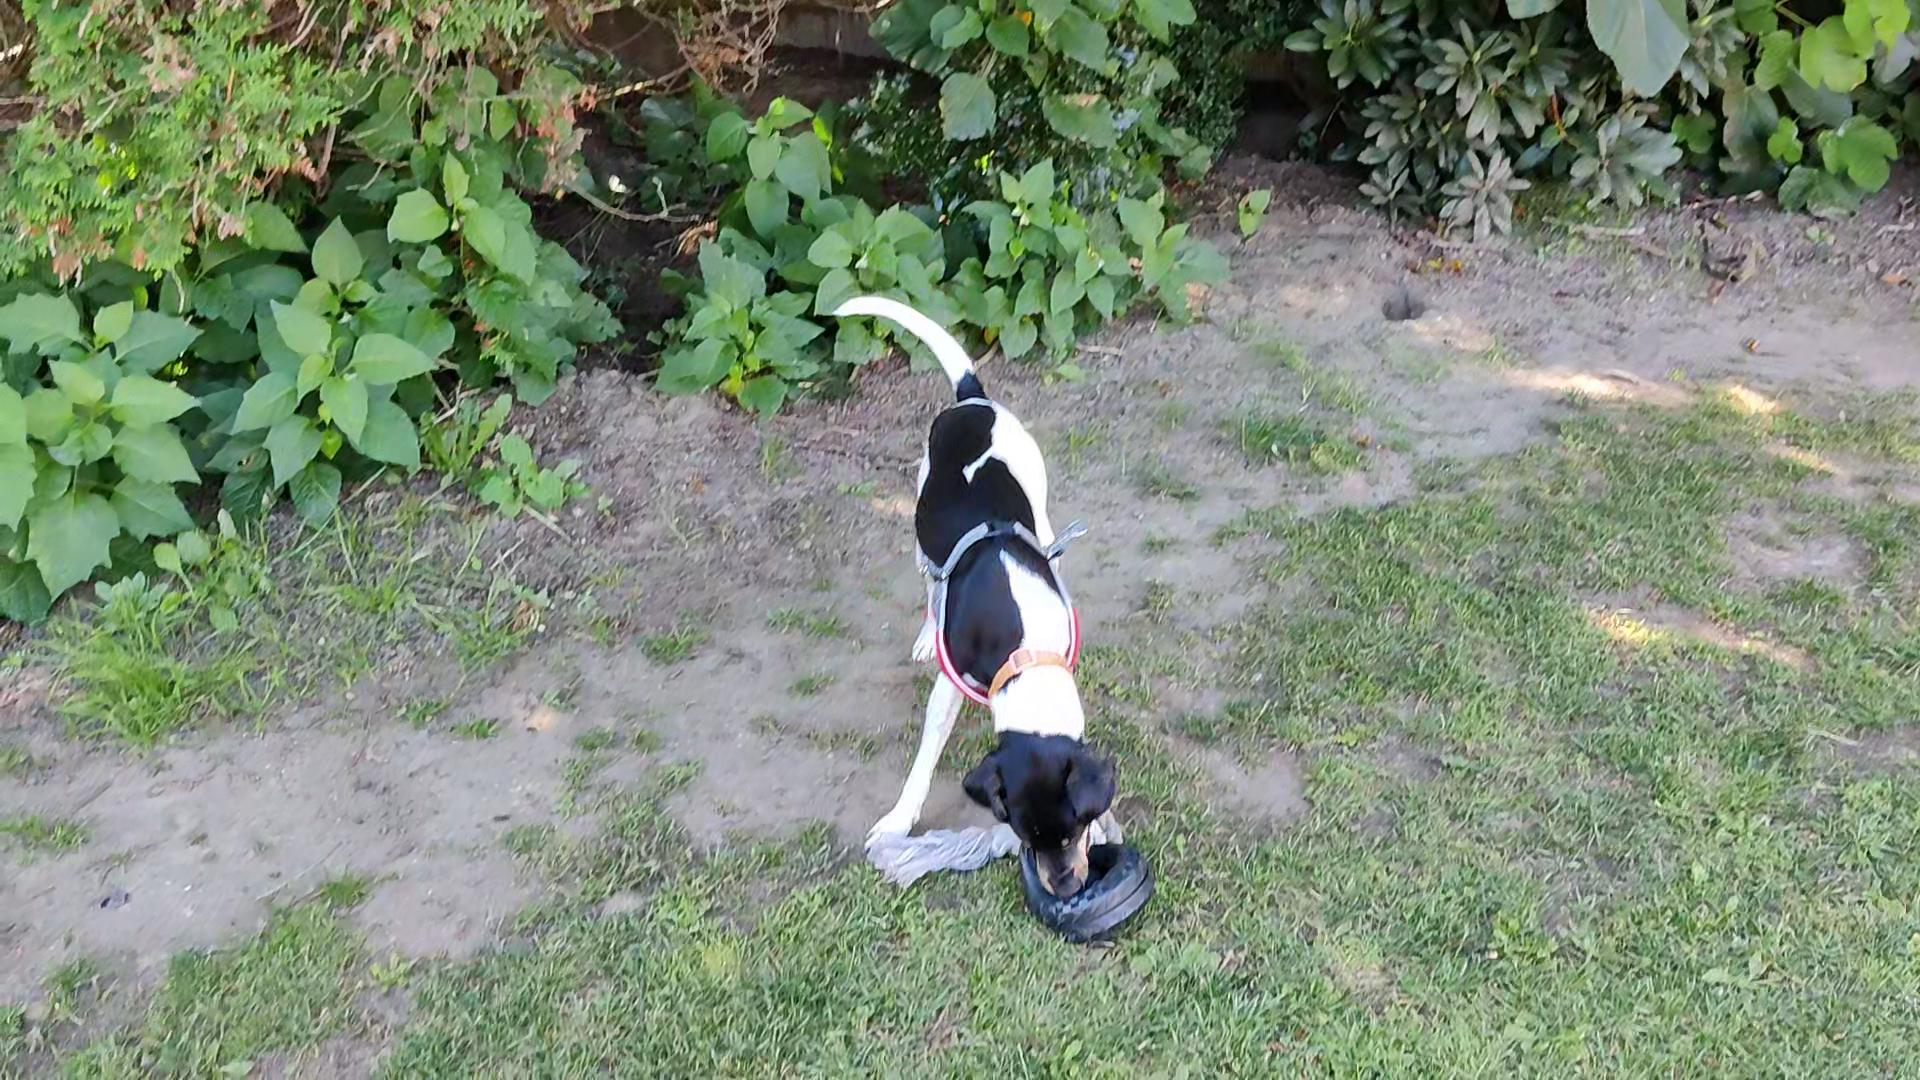Dog: (814, 282, 1133, 907)
